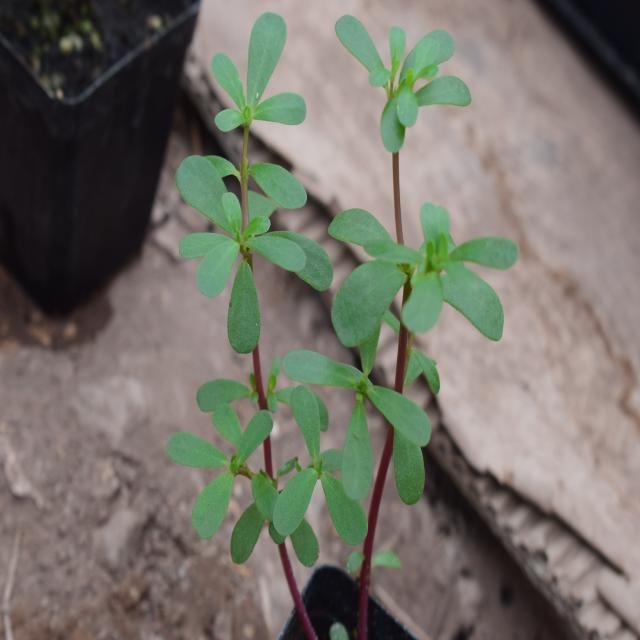purslane: (166, 11, 515, 542)
